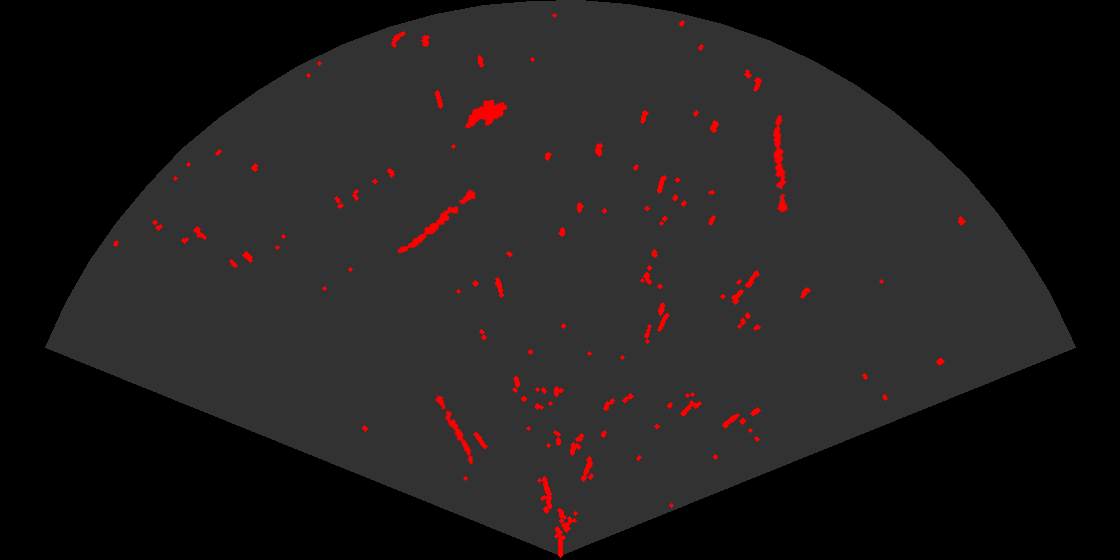AUV: (463, 98, 509, 130)
chain: (396, 188, 477, 255), (431, 387, 475, 466), (771, 113, 789, 214)
